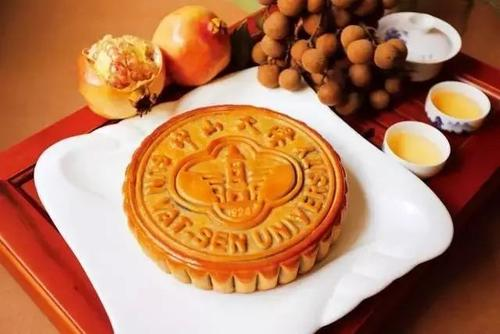MoonCake: (123, 104, 349, 292)
